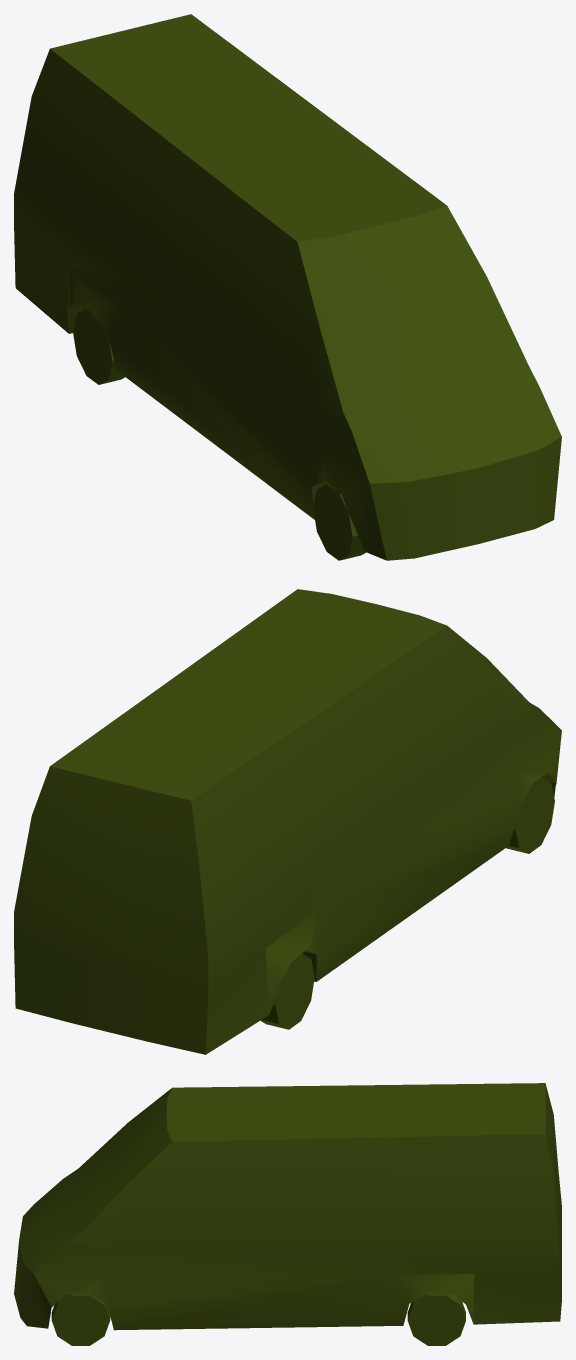
Rendered from Vehicle04B_M.fbx.
The picture shows the model from 3 angles, top to bottom: view 1: azimuth 30°, elevation 25°; view 2: azimuth 150°, elevation 25°; view 3: azimuth 270°, elevation 25°; orthographic projection. The views are drawn at different scales.
Parts seen in each view (by area): view 1: Vehicle04B; view 2: Vehicle04B; view 3: Vehicle04B.
Part boxes in pixels (x1,y1,x2,y2): Vehicle04B: (14,14,561,560); Vehicle04B: (14,589,561,1054); Vehicle04B: (14,1083,561,1345).
Size of the model in its own units: 1.63 by 1.95 by 4.82.
